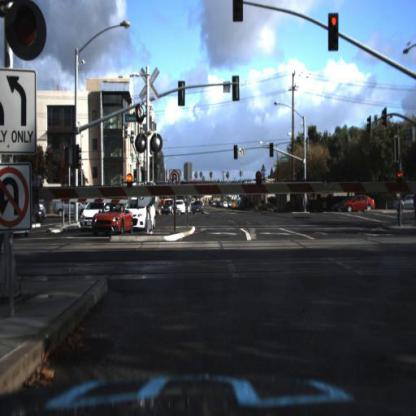car: (92, 202, 135, 236), (51, 197, 94, 224), (128, 201, 158, 232), (342, 194, 378, 217), (81, 199, 105, 230), (30, 208, 45, 230), (333, 194, 344, 217), (31, 202, 49, 215), (163, 201, 179, 215), (220, 197, 232, 215), (175, 200, 185, 220), (192, 199, 204, 215), (176, 197, 187, 214), (162, 199, 174, 214)
pedestrian: (395, 184, 405, 226)
trafficLight: (1, 1, 70, 67), (12, 3, 44, 55), (232, 138, 243, 164), (234, 2, 246, 25)
trafficLight-Red: (324, 9, 345, 58), (329, 14, 341, 52), (234, 144, 239, 162), (271, 142, 275, 158)
